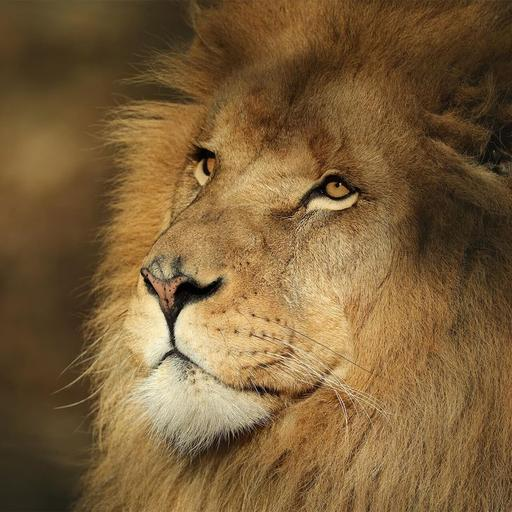Lion: (70, 0, 512, 512)
